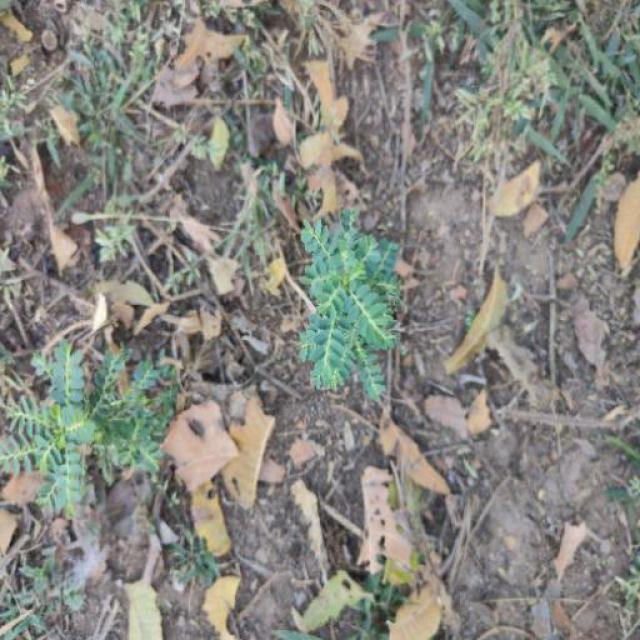weed: (5, 306, 183, 538), (291, 216, 415, 402)
